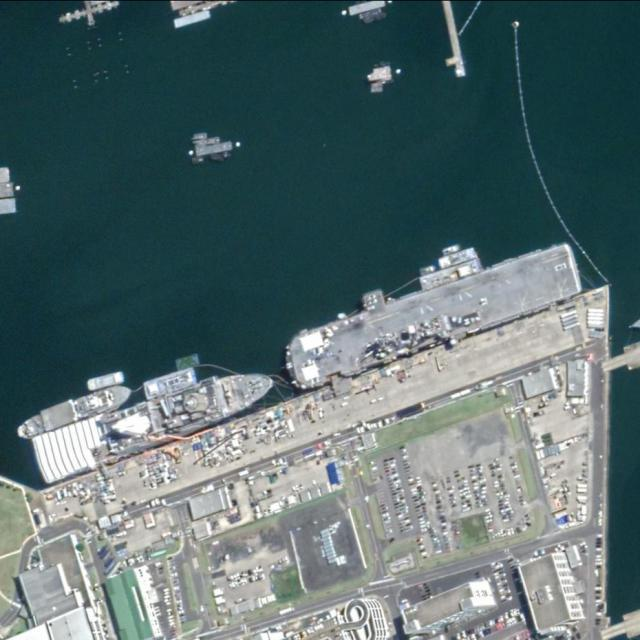Landing: (281, 237, 587, 393)
Other Ship: (29, 356, 284, 486), (12, 380, 135, 443)
